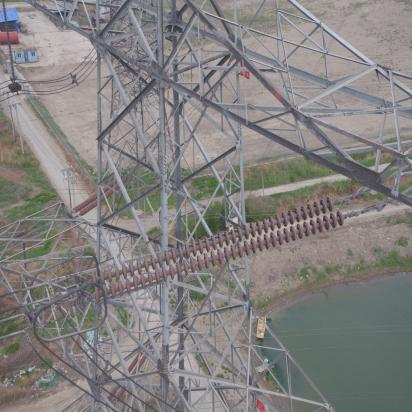insulator: (88, 195, 357, 305), (73, 176, 127, 217)
